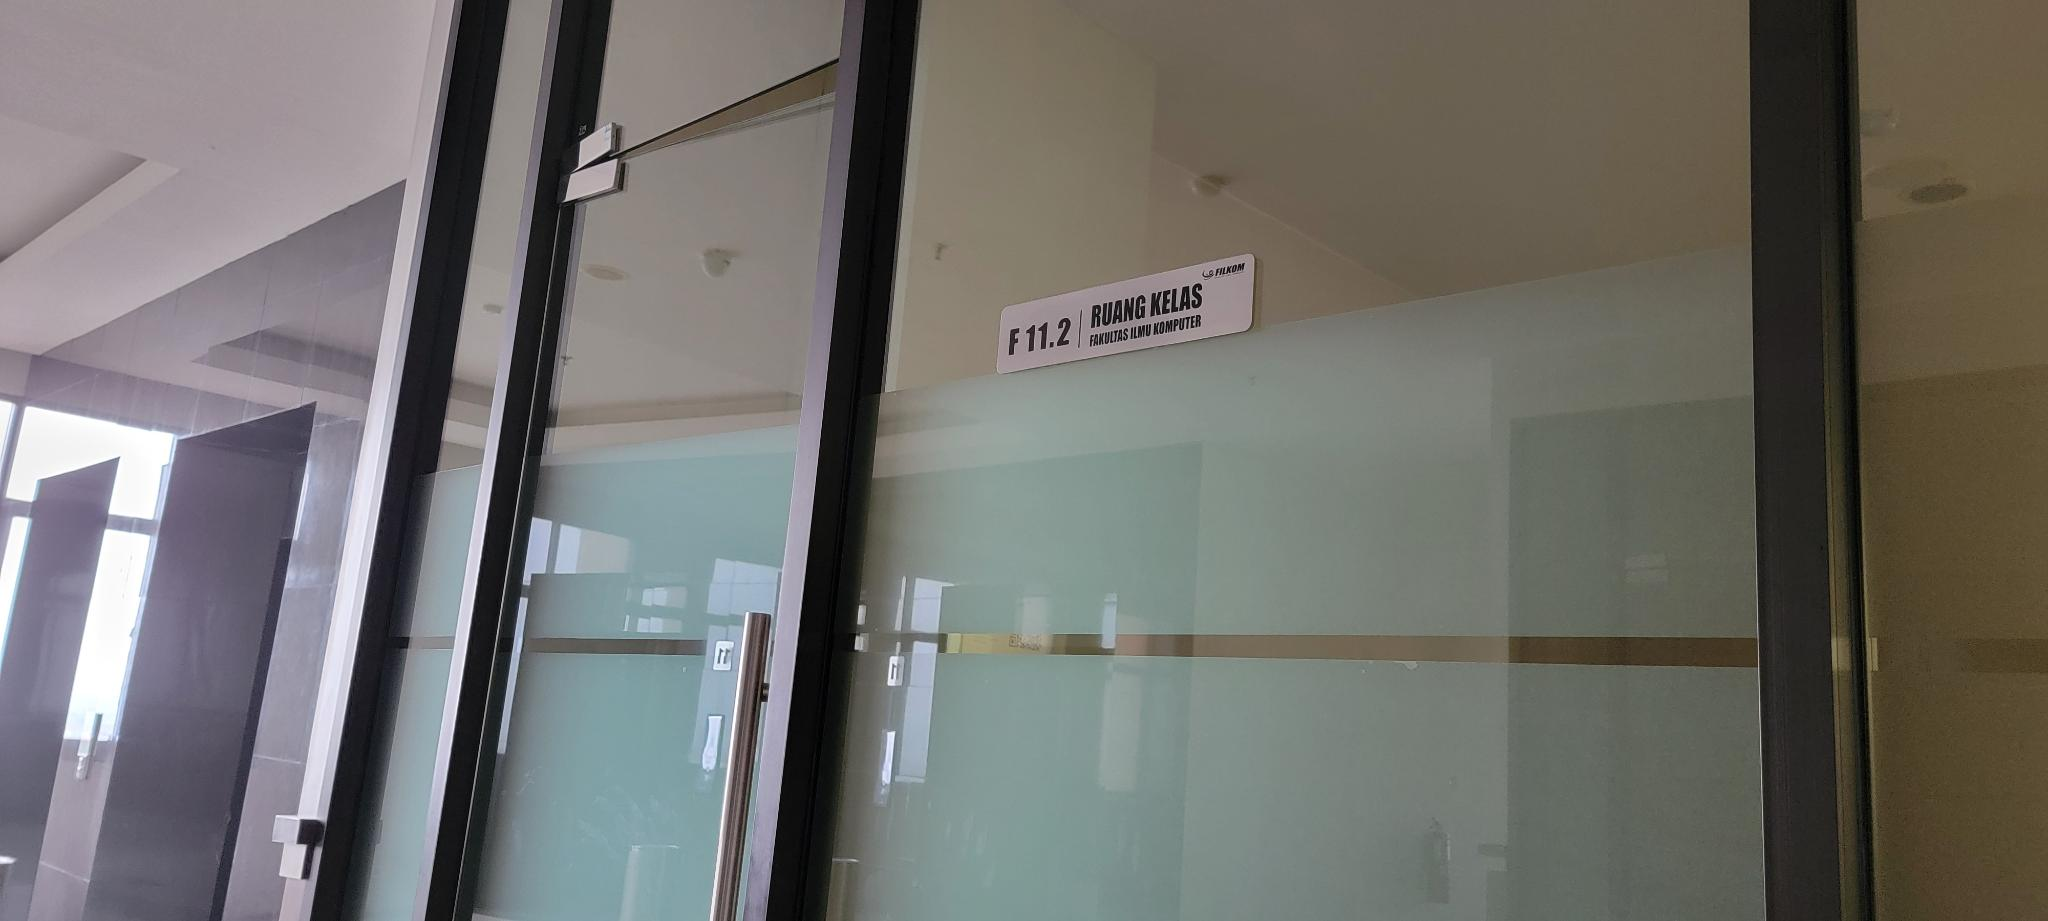plate: (991, 253, 1260, 379)
